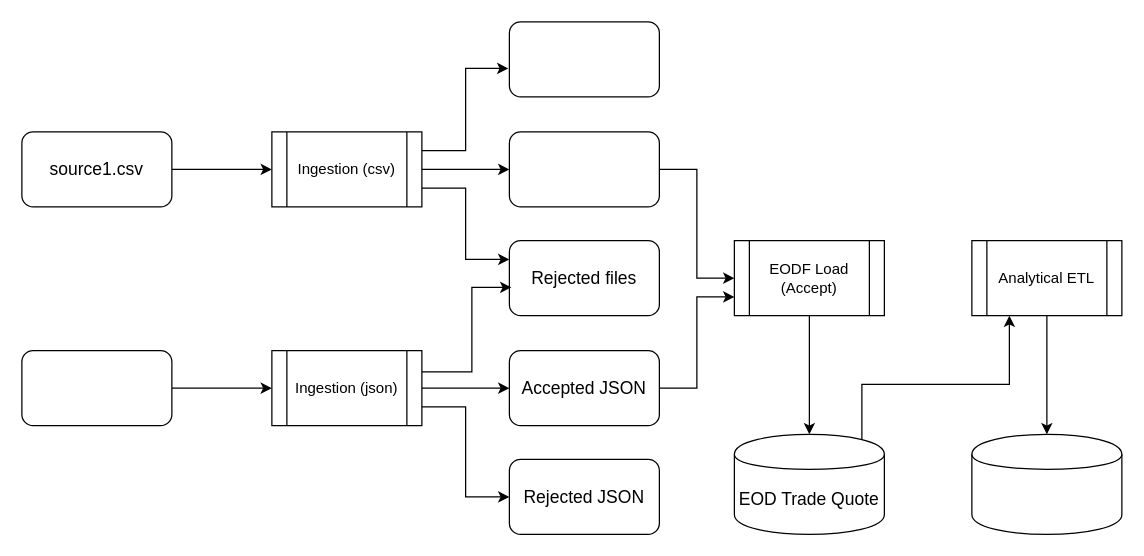
This 1144x556 diagram has some shape labels left out. The shapes that lost their labels are listed below. From the top down, each one's centre as x and y in pixels, then its label:
point 583,59: Rejected CSV
point 583,169: Accepted CSV
point 96,387: source2.json
point 1046,483: quote-trade-analytical
